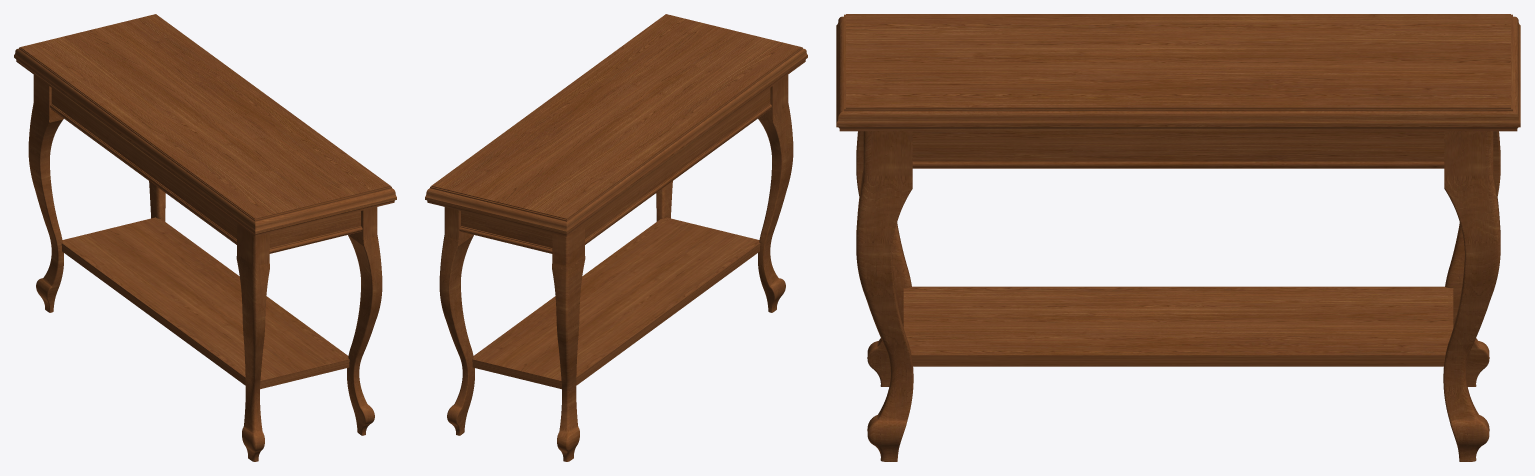
The model's file is table.fbx.
The picture shows the model from 3 angles, left to right: view 1: azimuth 30°, elevation 25°; view 2: azimuth 150°, elevation 25°; view 3: azimuth 270°, elevation 25°; orthographic projection. The views are drawn at different scales.
Visible parts, largest first — view 1: 3dSolid.006; view 2: 3dSolid.006; view 3: 3dSolid.006.
Boxes of the visible parts, x1=… form: 3dSolid.006: x1=14, y1=14, x2=396, y2=461; 3dSolid.006: x1=425, y1=14, x2=807, y2=461; 3dSolid.006: x1=836, y1=14, x2=1520, y2=461.
Size of the model in its own units: 884 by 1524 by 2612.
